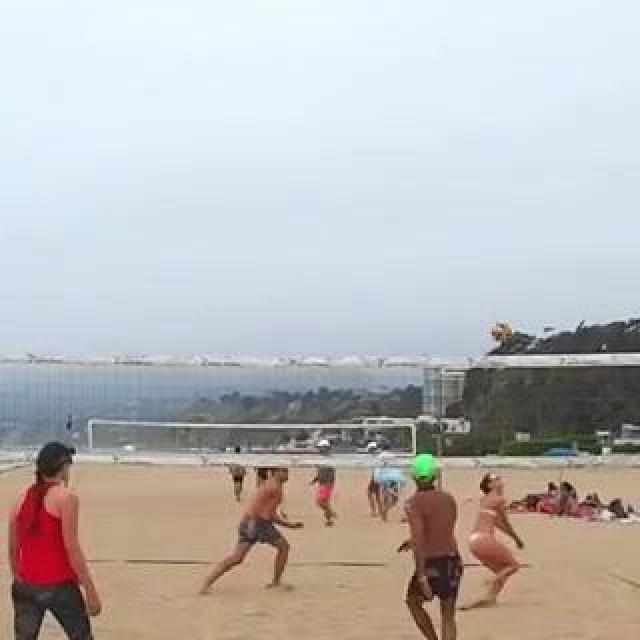volleyball: (491, 322, 513, 342)
